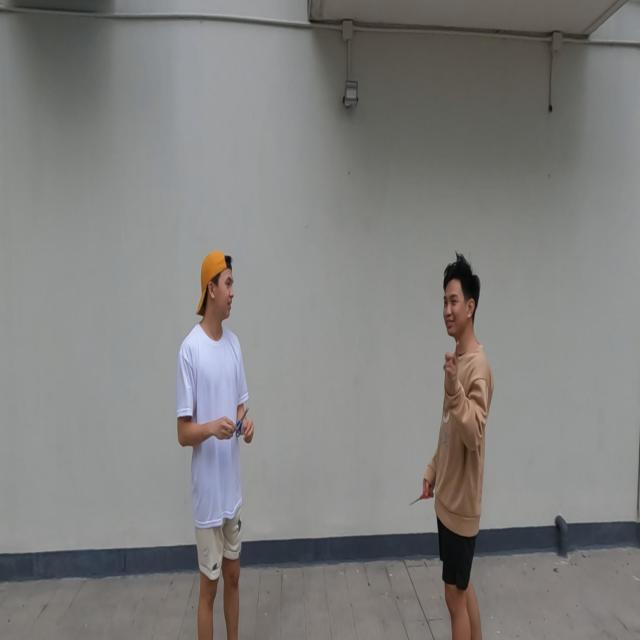scissor: (228, 406, 249, 438), (409, 486, 432, 506)
